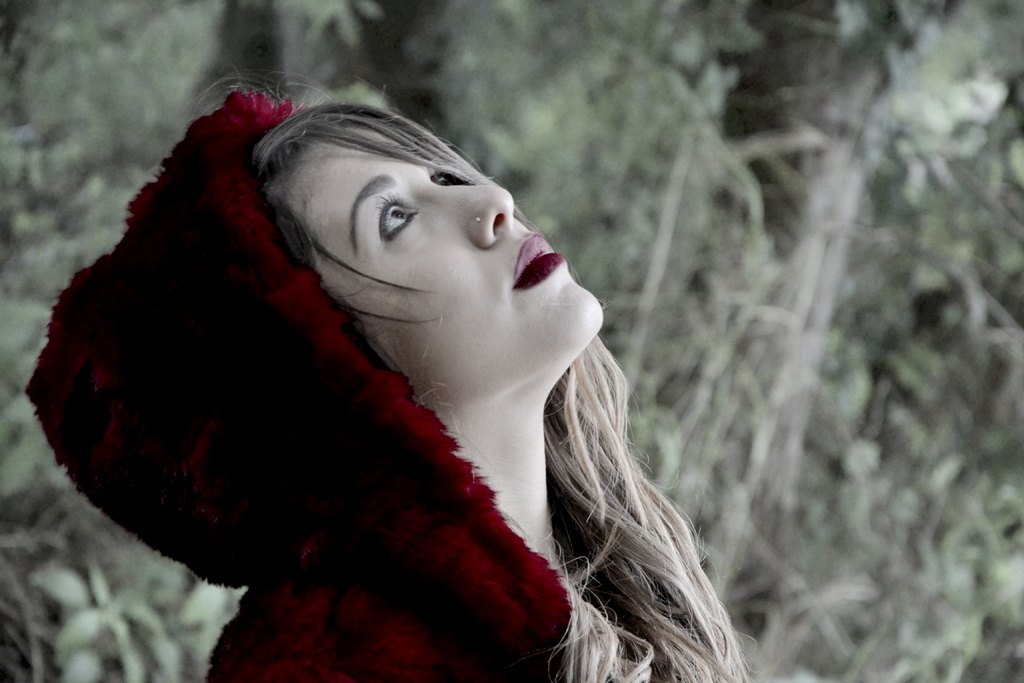Human-face: (285, 127, 607, 404)
